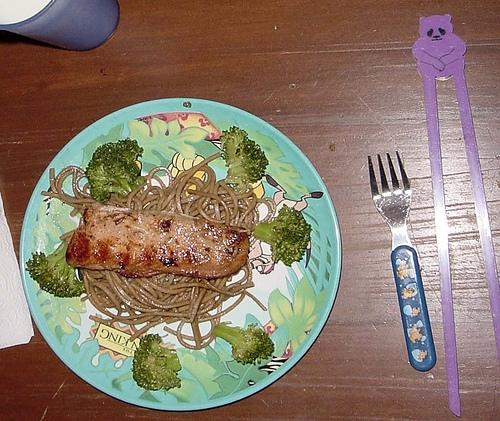broccoli: (84, 137, 145, 203), (252, 203, 312, 267), (25, 240, 87, 298), (220, 126, 268, 193), (132, 333, 182, 390), (212, 322, 274, 366)
